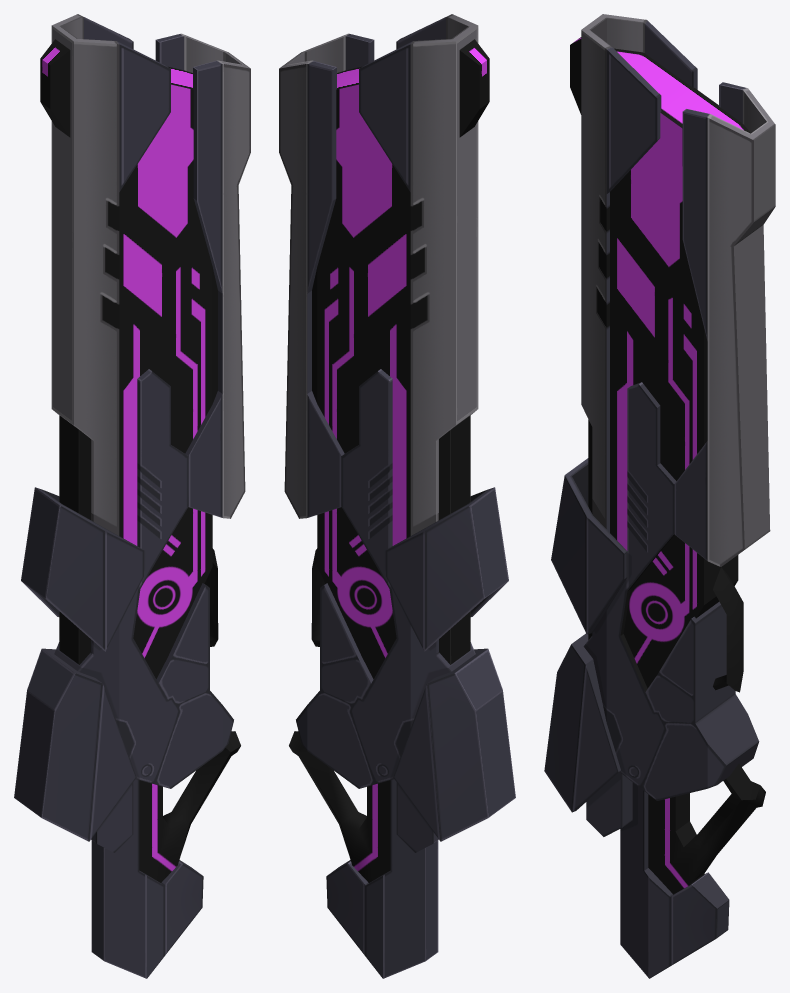
Rendered from wp_xbow_mech01.fbx.
The picture shows the model from 3 angles, left to right: view 1: azimuth 30°, elevation 25°; view 2: azimuth 150°, elevation 25°; view 3: azimuth 330°, elevation 25°; orthographic projection. The views are drawn at different scales.
Visible parts, largest first — view 1: wp_xbow_mech01; view 2: wp_xbow_mech01; view 3: wp_xbow_mech01.
Boxes of the visible parts, x1,y1,x2,y2 form: wp_xbow_mech01: (14, 14, 250, 978); wp_xbow_mech01: (279, 14, 515, 978); wp_xbow_mech01: (544, 14, 775, 978).
Bounding box in the file's own units: 49.31 × 212 × 19.31.
